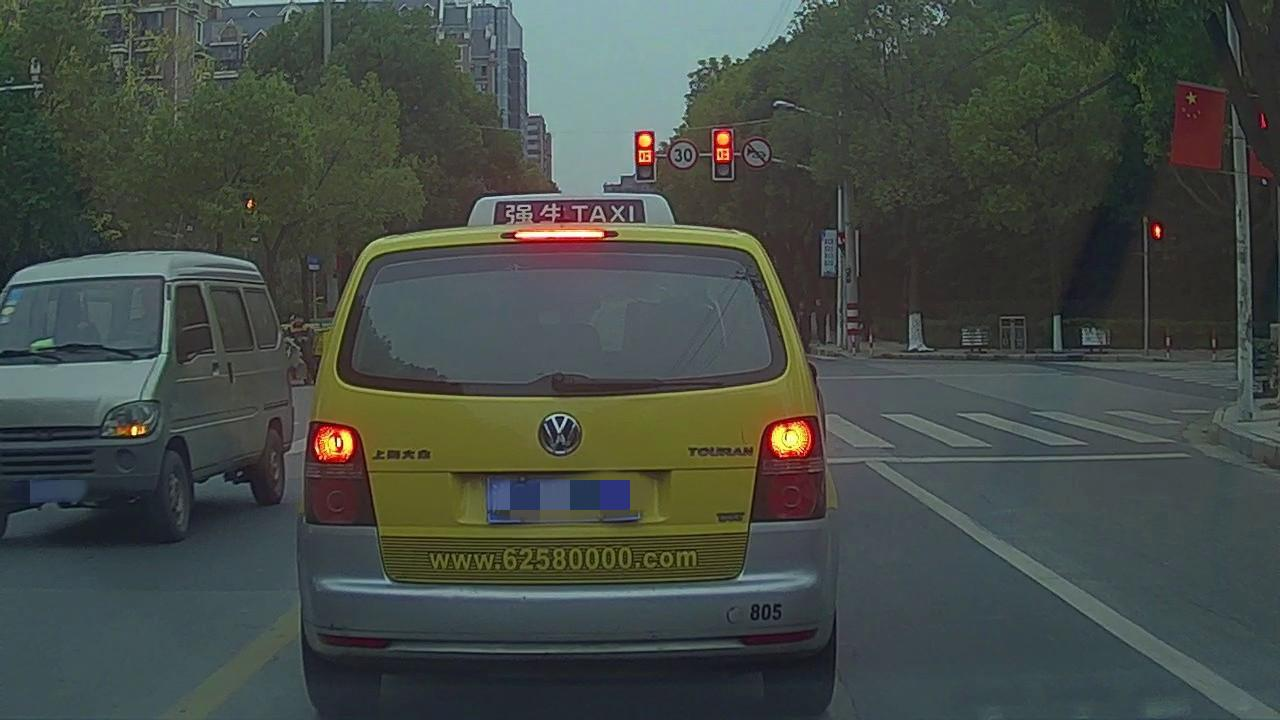traffic_light: (711, 131, 733, 179), (635, 131, 655, 182)
